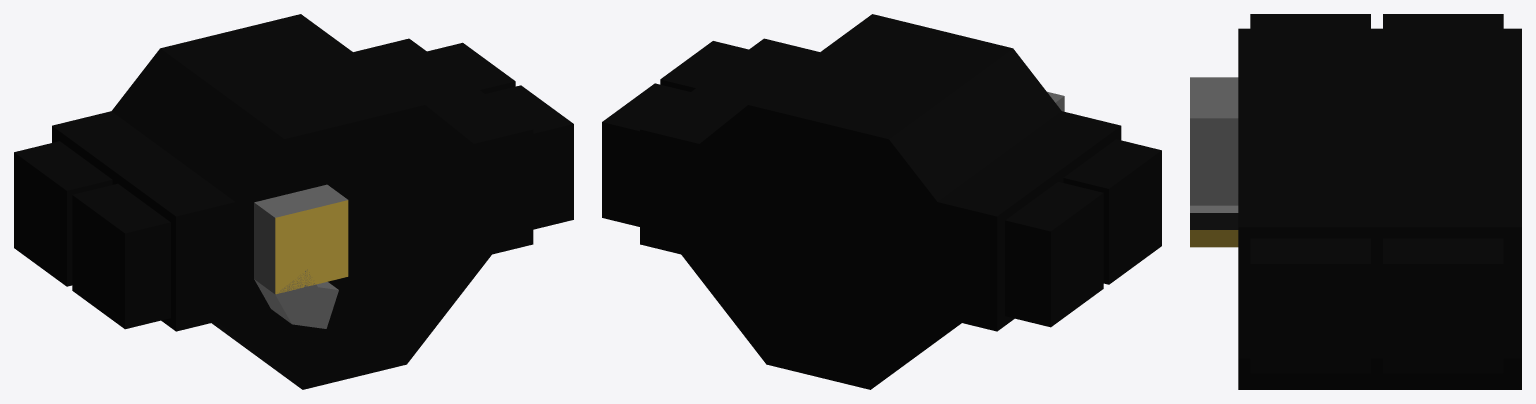
File: v4insolvoturbo.obj
3 views of the same model, side by side, from view 1: azimuth 30°, elevation 25°; view 2: azimuth 150°, elevation 25°; view 3: azimuth 270°, elevation 25° (orthographic). The views are drawn at different scales.
Visible parts, largest first — view 1: cube, turbo; view 2: cube; view 3: cube, turbo.
Part boxes in pixels (x1,y1,x2,y2): cube: (14, 14, 573, 389); turbo: (254, 184, 348, 328); cube: (602, 14, 1161, 389); cube: (1238, 14, 1521, 389); turbo: (1190, 77, 1238, 247).
Bounding box in the file's own units: 0.9816 × 0.5332 × 0.5506.
